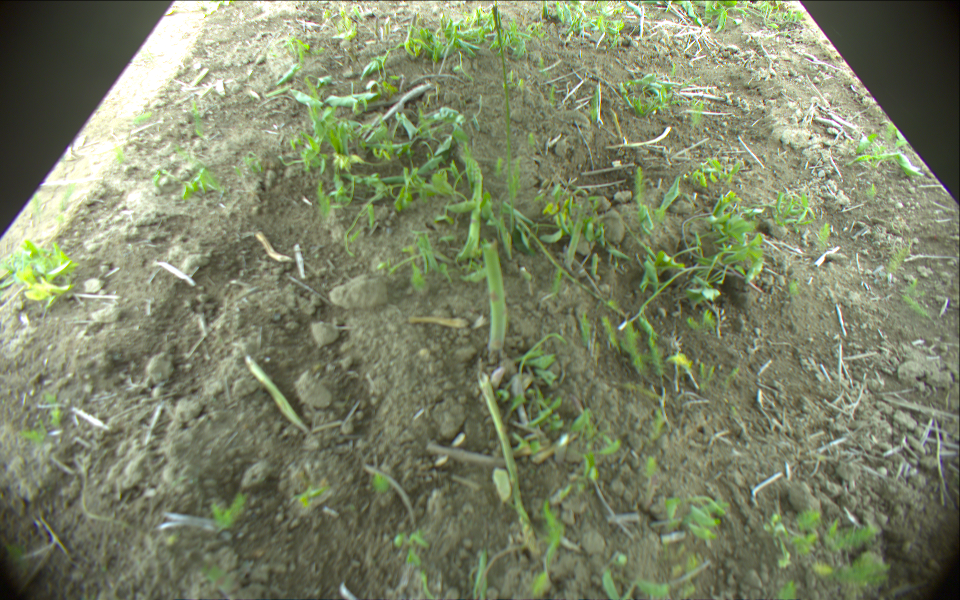aspa: (479, 372, 543, 559), (489, 5, 517, 232), (242, 356, 311, 434), (481, 242, 508, 363), (458, 157, 483, 261), (561, 193, 591, 271)
